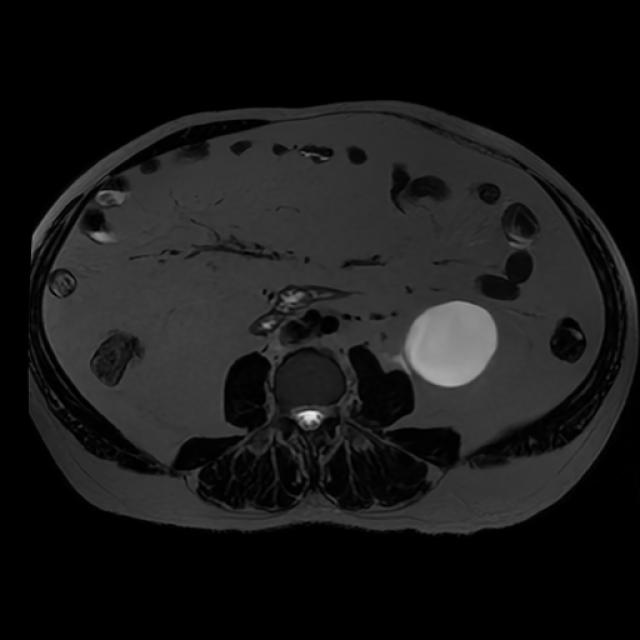sol: (402, 299, 499, 388)
